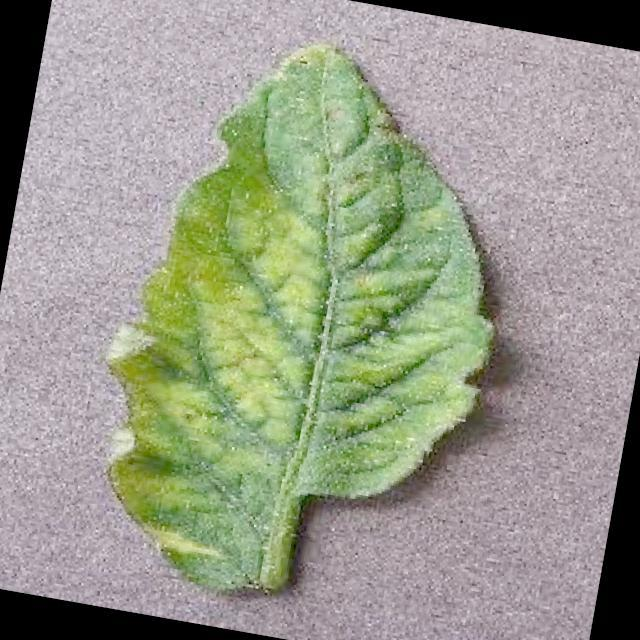Tomato mosaic virus leaf: (69, 14, 542, 633)
